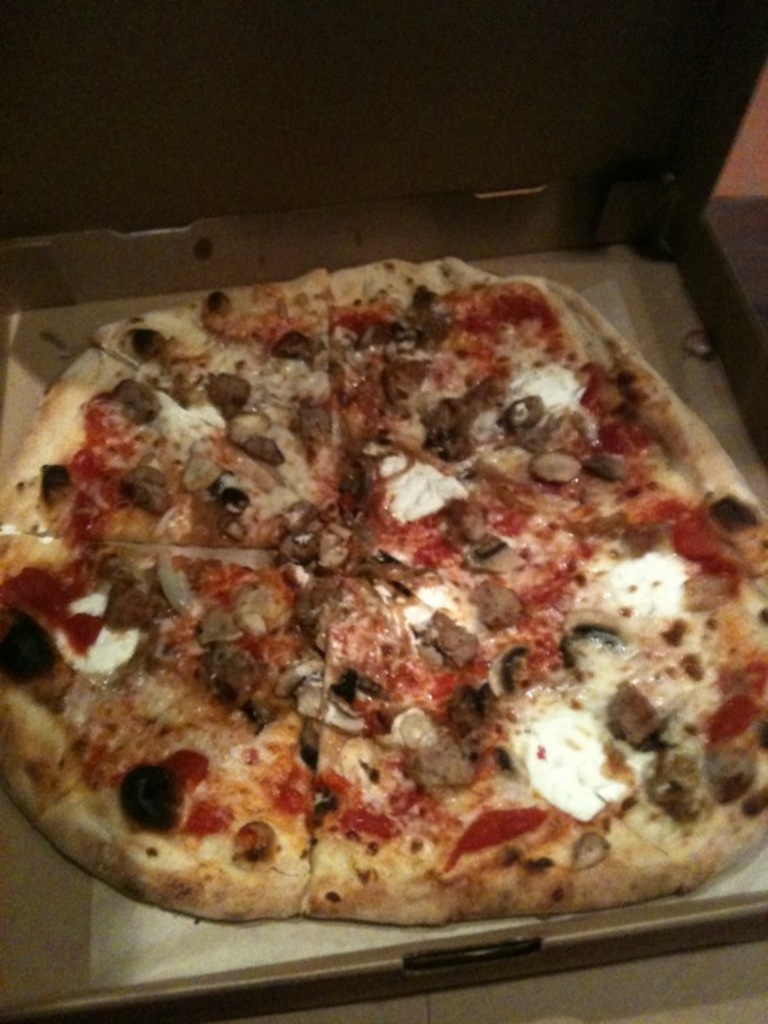Pizza: (0, 256, 766, 927)
